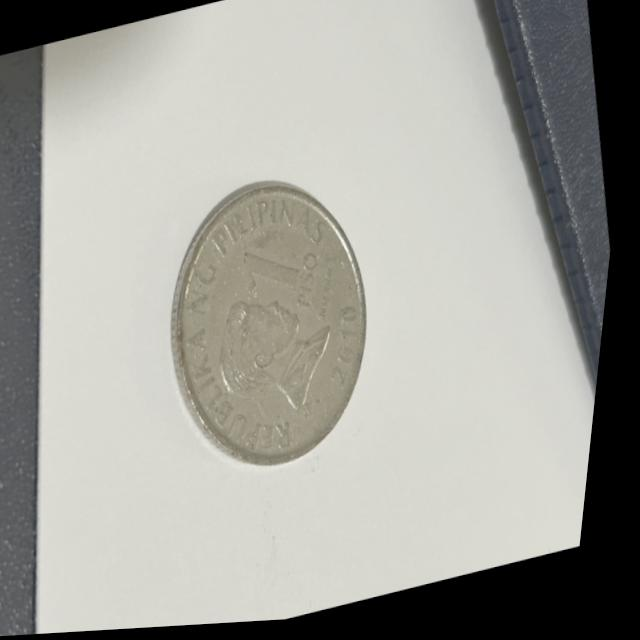1_Old_Front: (235, 232, 334, 322)
